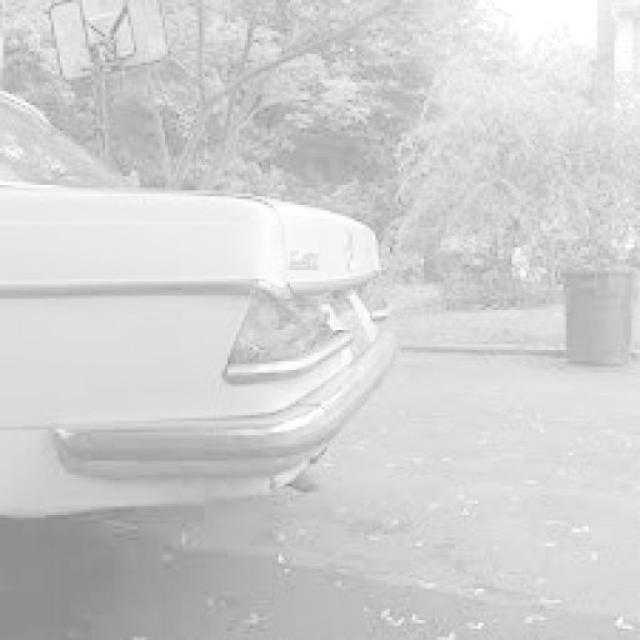car damage: (277, 277, 382, 344)
